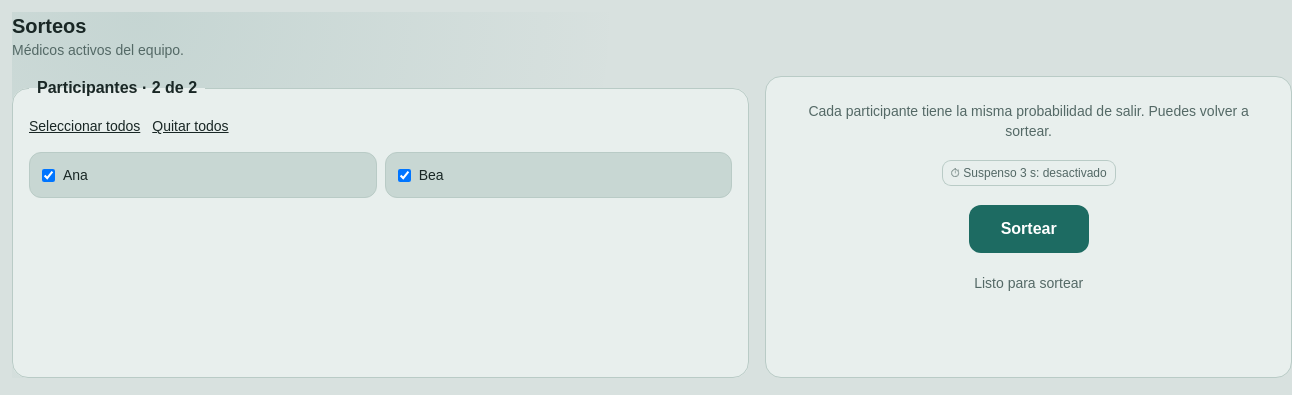
Sorteos › incluye activos sin depender de turnos y respeta exclusiones
Click the checkbox labelled "Ana" at (48, 175), box [42,168,55,182]
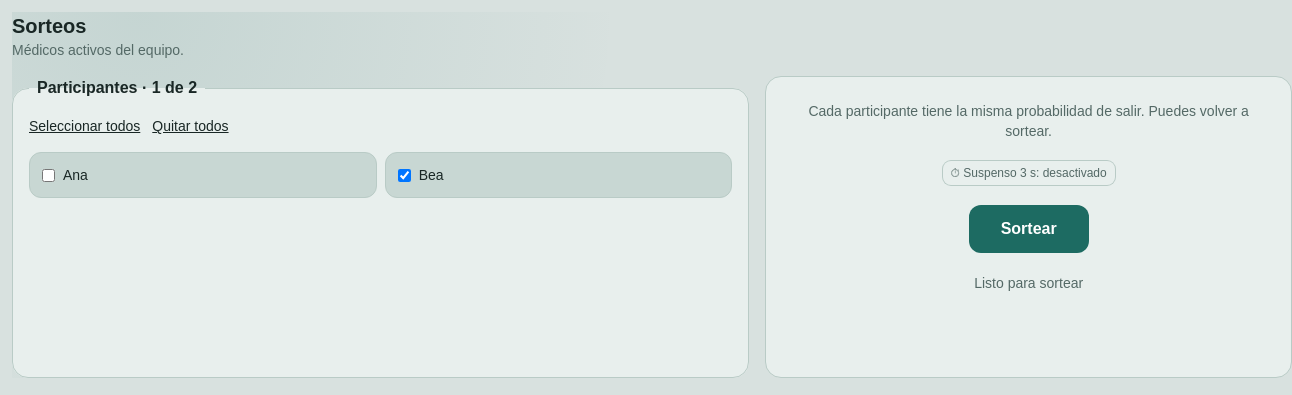
Click the button "Sortear" at (1029, 229), box [969,205,1089,253]
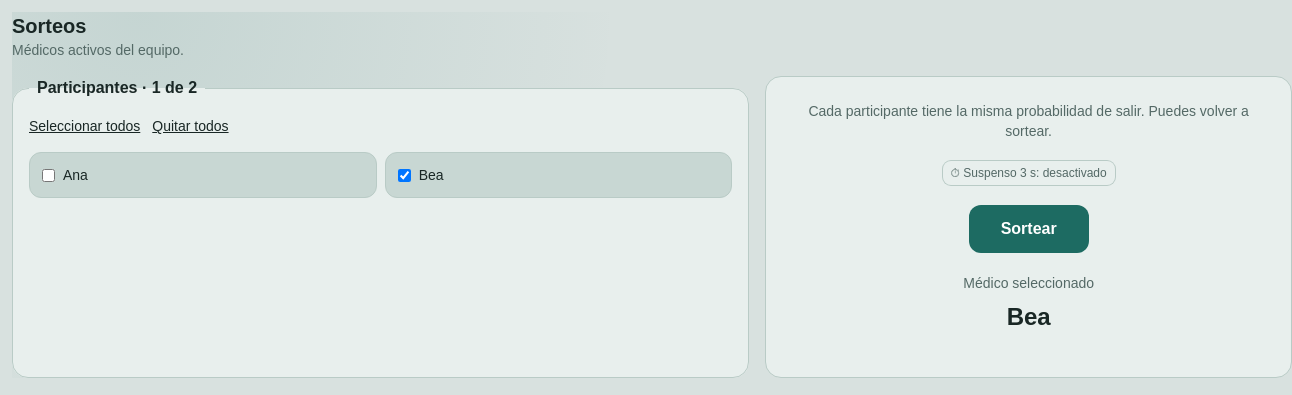
Expected: the message shows "Bea", [1007,303,1051,330]
Click the button "Quitar todos" at (190, 126), box [152,116,229,136]
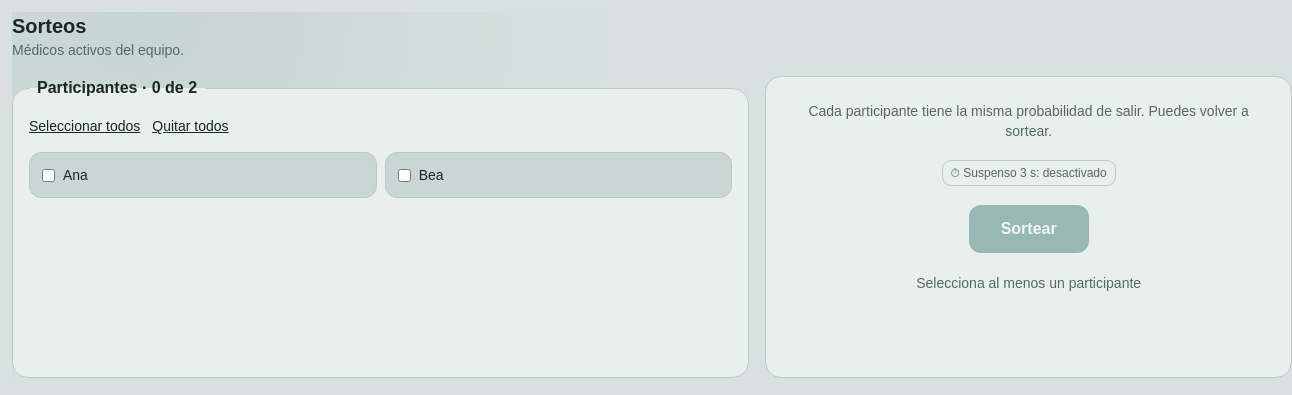
Expected: the button "Sortear" is disabled, [969,205,1089,253]
